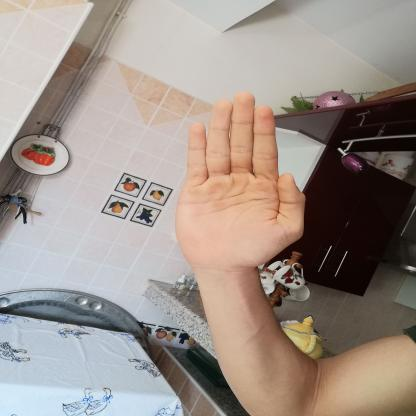SEEN: (166, 85, 315, 275)
